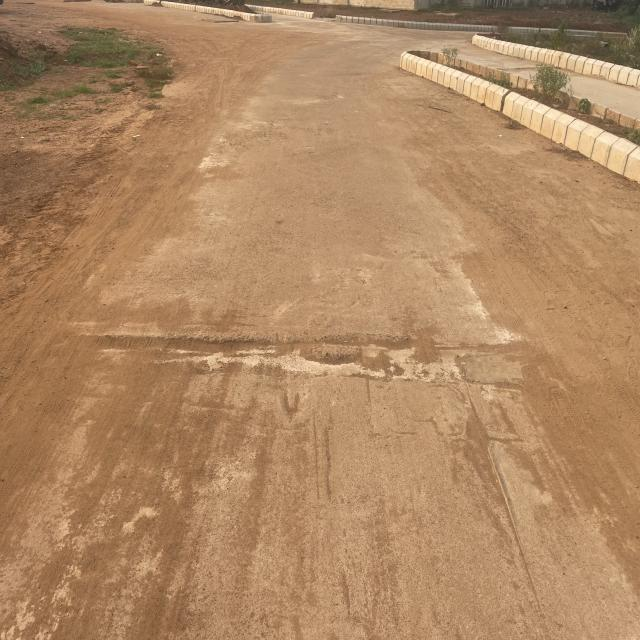D40: (46, 278, 578, 424)
